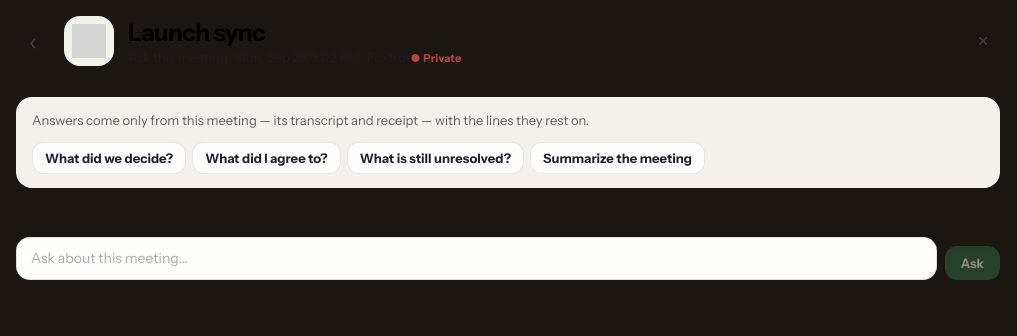
Test: MeetingTwin › marks an answer the meeting doesn't establish, and a transcript-only one
The width and height of the screenshot is (1017, 336).
Type "When is the final launch date?" into the text box with test id "twin-input" at point(476, 259), box x1=16 y1=237 x2=937 y2=280
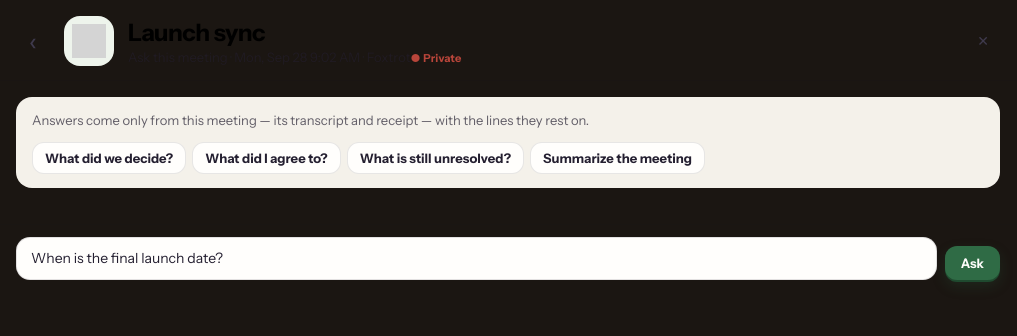
Click the button with test id "twin-send" at point(972, 263), box x1=945 y1=246 x2=1000 y2=280
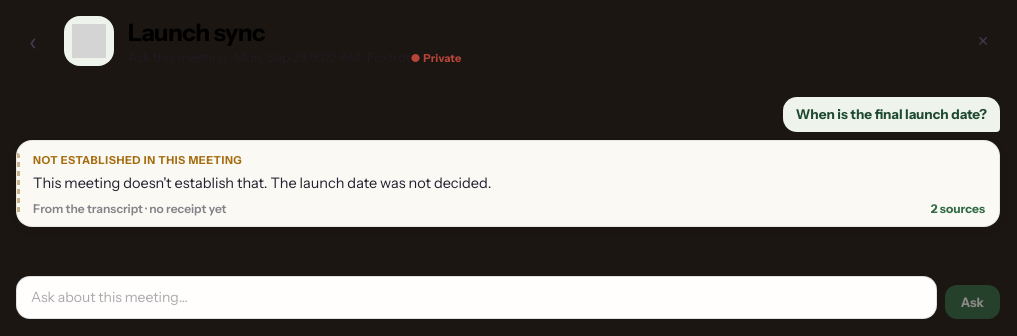
Expected: the text with test id "twin-not-established" reads "Not established in this meeting", x1=33 y1=153 x2=242 y2=167
Expected: the element with test id "twin-answer" shows "From the transcript · no receipt yet", x1=33 y1=201 x2=226 y2=216
Expected: the button with test id "twin-sources-toggle" reads "2 sources", x1=931 y1=201 x2=985 y2=216
